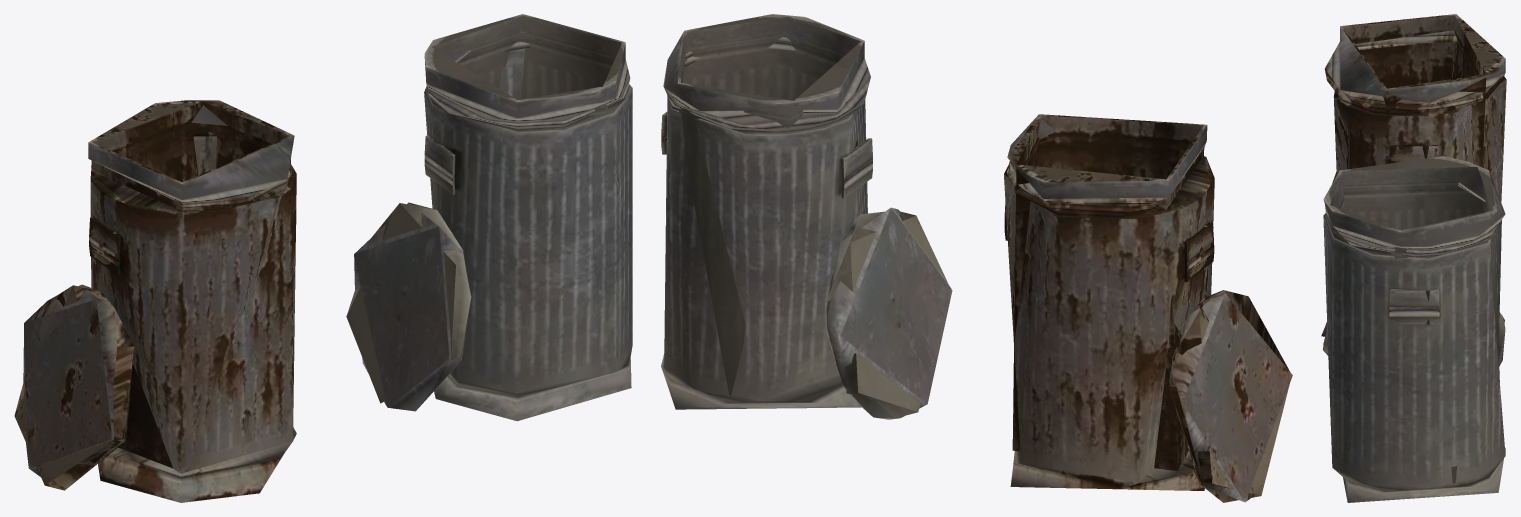
File: metal_trash_can.glb
The picture shows the model from 3 angles, left to right: view 1: azimuth 30°, elevation 25°; view 2: azimuth 150°, elevation 25°; view 3: azimuth 270°, elevation 25°; orthographic projection. The views are drawn at different scales.
Parts seen in each view (by area): view 1: metal_trash_can_handle_left, metal_trash_can_rust; view 2: metal_trash_can_handle_left, metal_trash_can_rust; view 3: metal_trash_can_handle_left, metal_trash_can_rust.
Part boxes in pixels (left/top/right/bottom): metal_trash_can_handle_left: left=346, top=14, right=632, bottom=421; metal_trash_can_rust: left=14, top=100, right=296, bottom=502; metal_trash_can_handle_left: left=661, top=14, right=952, bottom=419; metal_trash_can_rust: left=1004, top=114, right=1292, bottom=502; metal_trash_can_handle_left: left=1323, top=156, right=1505, bottom=502; metal_trash_can_rust: left=1321, top=14, right=1506, bottom=336.
Bounding box in the file's own units: 1.71 × 0.9062 × 0.5413.
2 materials, 2 textured.
